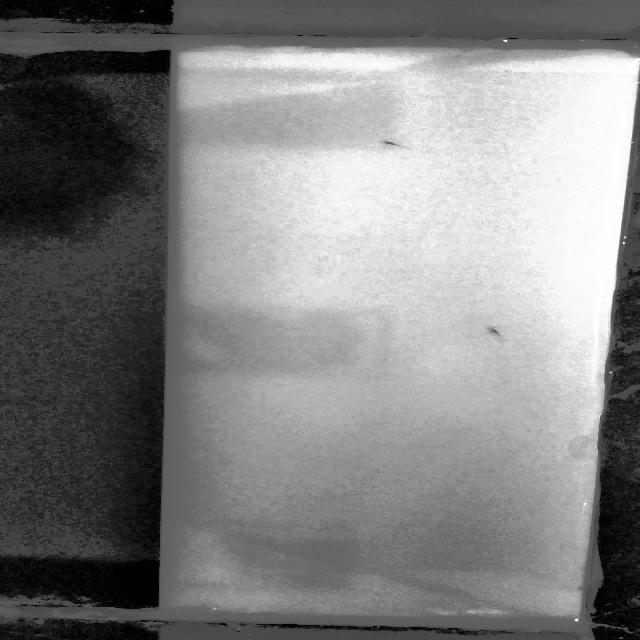shrimp: (483, 323, 509, 340), (382, 138, 409, 150)
